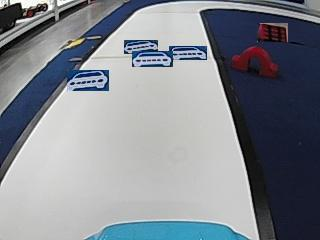bridge: (233, 45, 277, 77)
